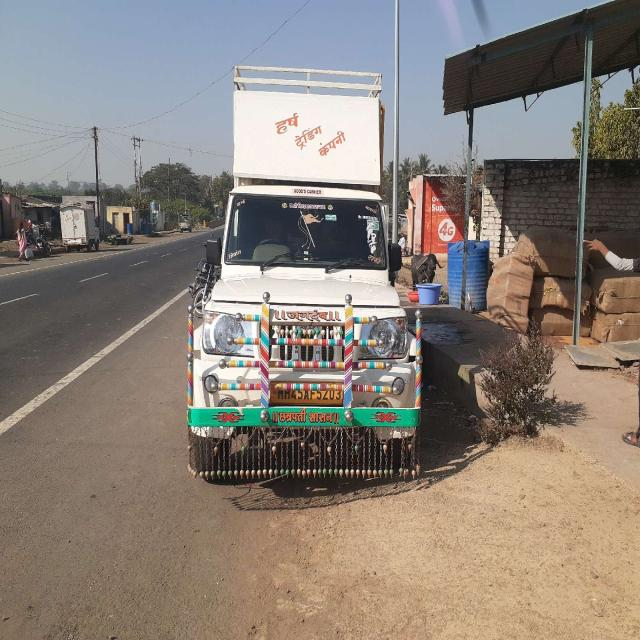light_vehicle: (188, 92, 412, 458)
